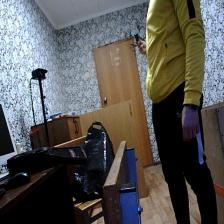drone: (127, 29, 147, 55)
